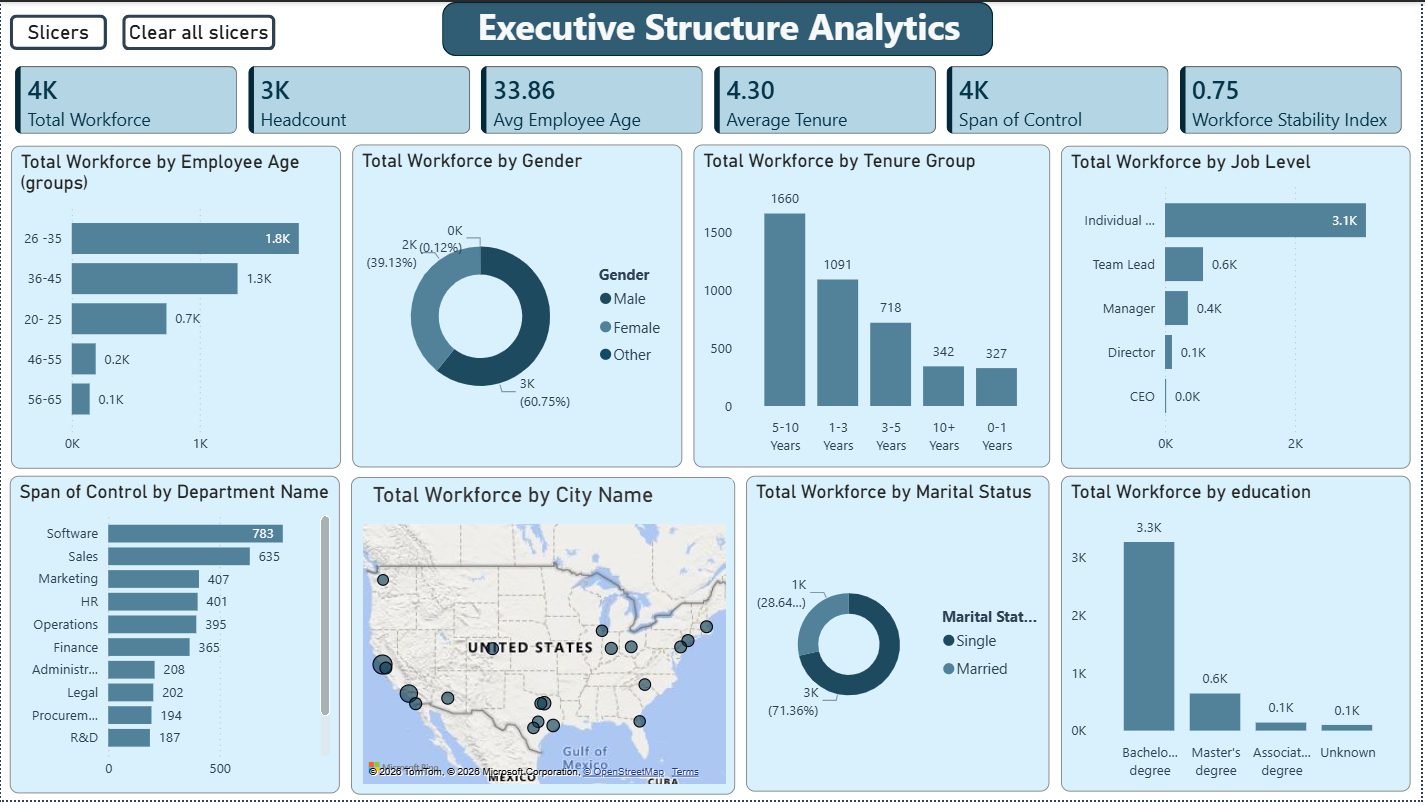

What the dashboard file says about the page in this screenshot:
{"tool":"powerbi","page":{"name":"Workforce Analytics","canvas":[1280,720],"ordinal":2},"visuals":[{"type":"shape","box":[397.9,0,496.7,48.7],"z":0},{"type":"cardVisual","fields":{"Data":["measures (2).Total Workforce","measures (2).Headcount","measures (2).Avg Employee Age","measures (2).Average Tenure","measures (2).Avg Employees Per Manager","measures (2).Workforce Stability Index"]},"box":[7.9,53,1263.5,71],"z":1000},{"type":"donutChart","fields":{"Category":["dim_employee.gender"],"Y":["measures (2).Total Workforce"]},"box":[316.7,128.7,297.6,291],"z":2000},{"type":"barChart","fields":{"Category":["dim_employee.Employee Age (groups)"],"Y":["measures (2).Total Workforce"]},"box":[9,129.8,297.6,291],"z":3000},{"type":"columnChart","fields":{"Category":["dim_employee.education"],"Y":["measures (2).Total Workforce"]},"box":[955.8,427.2,315.6,285],"z":4000},{"type":"donutChart","fields":{"Category":["dim_employee.marital_status"],"Y":["measures (2).Total Workforce"]},"box":[672.3,427.2,273.9,285.2],"z":5000},{"type":"barChart","fields":{"Category":["dim_job_level.job_level_name"],"Y":["measures (2).Total Workforce"]},"box":[955.8,129.8,315.6,291],"z":6000},{"type":"barChart","fields":{"Category":["dim_department.department_name"],"Y":["measures (2).Avg Employees Per Manager"]},"box":[8.1,426.7,297.7,286],"z":7000},{"type":"columnChart","fields":{"Category":["mart_headcount.Tenure Group"],"Y":["measures (2).Total Workforce"]},"box":[624.4,128.7,321.2,291],"z":8000},{"type":"shape","box":[315.6,428.3,346,286.3],"z":15000},{"type":"textbox","box":[414.9,0,464.6,48.3],"z":16000},{"type":"map","fields":{"Size":["measures (2).Total Workforce"],"Category":["dim_location.city_name"]},"box":[321.2,427.2,338.1,282.9],"z":17000},{"type":"shape","box":[321.2,430.6,338.1,37.2],"z":18000},{"type":"textbox","box":[330.2,428.3,284,33.8],"z":19000},{"type":"actionButton","title":"FILTERS","box":[8.3,11.1,87.7,32],"z":20000},{"type":"actionButton","box":[109.5,11.2,138.1,32.3],"z":21000}]}

Visuals, with their boxes in screenshot pixels (x1, y1, x2, y2), scaled from the page's 1280x720 canvas onto the 1425x806 screenshot:
shape: bbox=(443, 0, 996, 55)
cardVisual - measures (2).Total Workforce x measures (2).Headcount: bbox=(9, 59, 1415, 139)
donutChart - dim_employee.gender x measures (2).Total Workforce: bbox=(353, 144, 684, 470)
barChart - dim_employee.Employee Age (groups) x measures (2).Total Workforce: bbox=(10, 145, 341, 471)
columnChart - dim_employee.education x measures (2).Total Workforce: bbox=(1064, 478, 1415, 797)
donutChart - dim_employee.marital_status x measures (2).Total Workforce: bbox=(748, 478, 1053, 797)
barChart - dim_job_level.job_level_name x measures (2).Total Workforce: bbox=(1064, 145, 1415, 471)
barChart - dim_department.department_name x measures (2).Avg Employees Per Manager: bbox=(9, 478, 340, 798)
columnChart - mart_headcount.Tenure Group x measures (2).Total Workforce: bbox=(695, 144, 1053, 470)
shape: bbox=(351, 479, 737, 800)
textbox: bbox=(462, 0, 979, 54)
map - measures (2).Total Workforce x dim_location.city_name: bbox=(358, 478, 734, 795)
shape: bbox=(358, 482, 734, 524)
textbox: bbox=(368, 479, 684, 517)
"FILTERS" actionButton: bbox=(9, 12, 107, 48)
actionButton: bbox=(122, 13, 276, 49)
